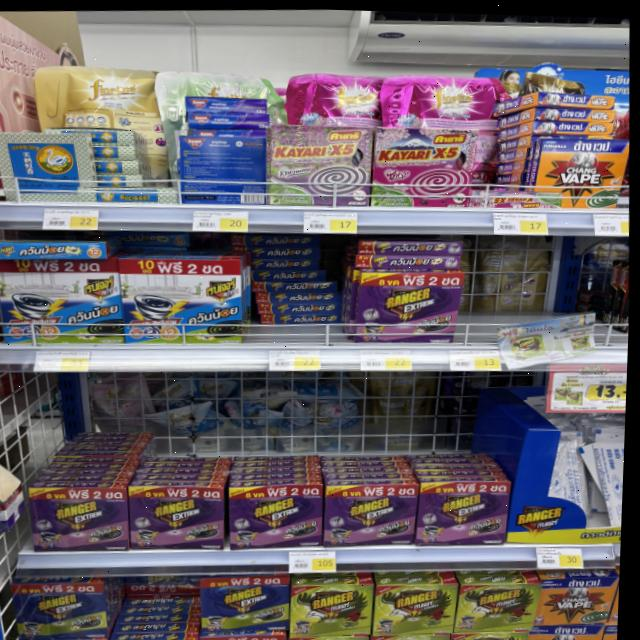empty_shelf: (26, 375, 507, 487), (460, 243, 624, 348), (246, 250, 347, 347), (111, 581, 205, 639)
